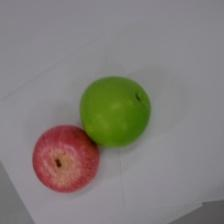green: (79, 74, 152, 147)
red: (31, 123, 100, 193)
